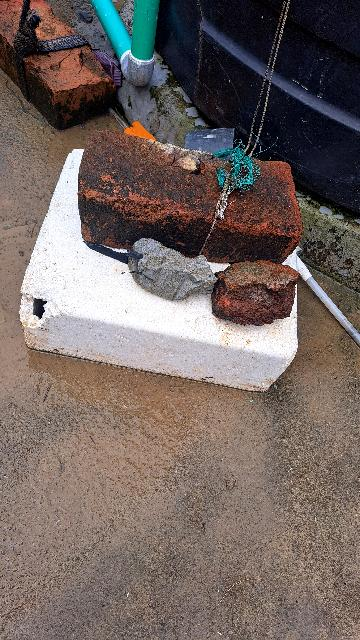cocksheet: (9, 125, 307, 401)
